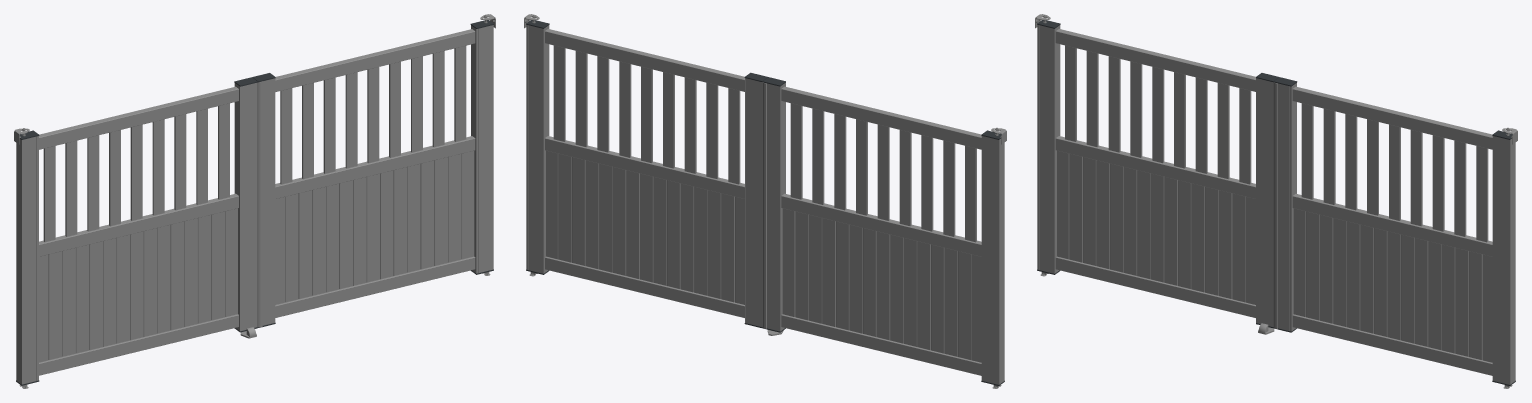
The picture shows the model from 3 angles, left to right: view 1: azimuth 30°, elevation 25°; view 2: azimuth 150°, elevation 25°; view 3: azimuth 330°, elevation 25°; orthographic projection.
Visible parts, largest first — view 1: Shape107412643, Shape107412644, Shape107412971, Shape107412972, Shape107412944, Shape096, Shape107412956, Shape107412940, Shape107412957, Shape107412941, Shape097, Shape104 (+47 smaller); view 2: Shape107412643, Shape107412971, Shape107412972, Shape107412644, Shape096, Shape107412944, Shape107412940, Shape107412956, Shape107412941, Shape107412957, Shape101, Shape107412953 (+47 smaller); view 3: Shape107412971, Shape107412643, Shape107412644, Shape107412972, Shape107412944, Shape096, Shape107412956, Shape107412940, Shape107412941, Shape107412957, Shape107412953, Shape108 (+47 smaller).
Part boxes in pixels (bbox=[...]): Shape107412643: bbox=[16, 136, 38, 384]; Shape107412644: bbox=[234, 83, 257, 331]; Shape107412971: bbox=[471, 25, 493, 273]; Shape107412972: bbox=[259, 78, 275, 325]; Shape107412944: bbox=[275, 29, 475, 91]; Shape096: bbox=[39, 86, 238, 149]; Shape107412956: bbox=[275, 136, 475, 198]; Shape107412940: bbox=[39, 193, 238, 256]; Shape107412957: bbox=[275, 256, 475, 317]; Shape107412941: bbox=[39, 314, 238, 375]; Shape097: bbox=[48, 251, 62, 359]; Shape104: bbox=[143, 228, 157, 336]; Shape107412643: bbox=[981, 136, 1004, 384]; Shape107412971: bbox=[526, 24, 549, 273]; Shape107412972: bbox=[745, 78, 762, 326]; Shape107412644: bbox=[764, 82, 785, 331]; Shape096: bbox=[781, 86, 981, 149]; Shape107412944: bbox=[545, 29, 744, 91]; Shape107412940: bbox=[781, 193, 981, 256]; Shape107412956: bbox=[545, 136, 744, 198]; Shape107412941: bbox=[781, 314, 981, 375]; Shape107412957: bbox=[545, 256, 744, 317]; Shape101: bbox=[903, 238, 917, 346]; Shape107412953: bbox=[612, 167, 626, 275]; Shape107412971: bbox=[1492, 136, 1515, 384]; Shape107412643: bbox=[1037, 24, 1060, 273]; Shape107412644: bbox=[1256, 78, 1273, 326]; Shape107412972: bbox=[1275, 82, 1296, 331]; Shape107412944: bbox=[1292, 86, 1492, 149]; Shape096: bbox=[1055, 29, 1255, 91]; Shape107412956: bbox=[1292, 193, 1492, 256]; Shape107412940: bbox=[1055, 136, 1255, 198]; Shape107412941: bbox=[1055, 256, 1255, 317]; Shape107412957: bbox=[1292, 314, 1492, 375]; Shape107412953: bbox=[1414, 238, 1428, 346]; Shape108: bbox=[1218, 190, 1232, 298].
Size of the model in its own units: 3259 by 1693 by 116.
7 materials, 2 textured.
